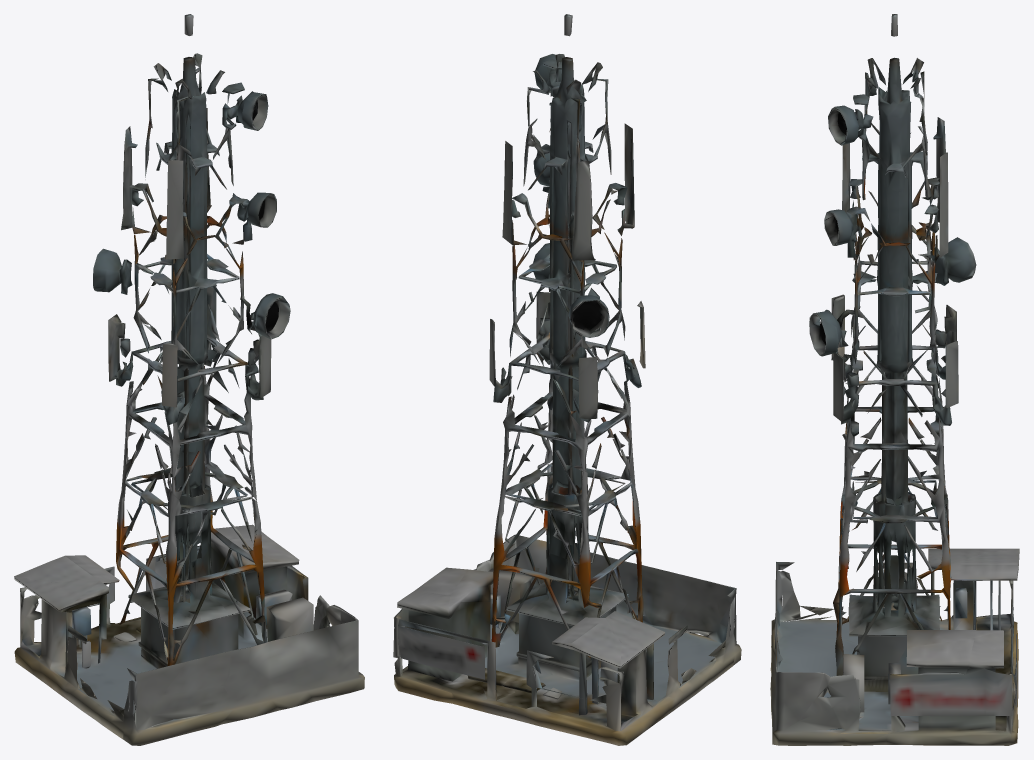
The model's file is tower_cell.glb.
The picture shows the model from 3 angles, left to right: view 1: azimuth 30°, elevation 25°; view 2: azimuth 150°, elevation 25°; view 3: azimuth 270°, elevation 25°; orthographic projection. The views are drawn at different scales.
Parts seen in each view (by area): view 1: tripo_node_df50972f; view 2: tripo_node_df50972f; view 3: tripo_node_df50972f.
Boxes of the visible parts, <box> form: tripo_node_df50972f: <box>14,14,364,745</box>; tripo_node_df50972f: <box>393,14,741,745</box>; tripo_node_df50972f: <box>770,14,1019,745</box>.
Bounding box in the file's own units: 37.24 × 99.99 × 33.49.
Materials: 1 (1 with a texture image).
